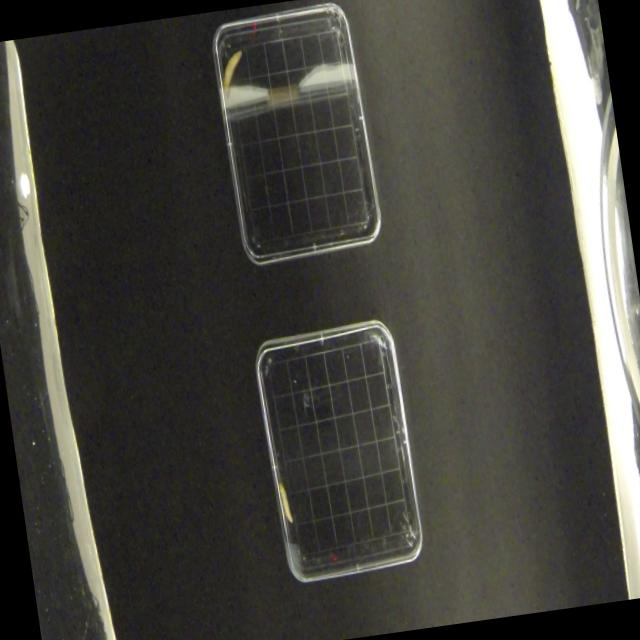larva: (216, 48, 248, 100), (274, 478, 298, 526)
